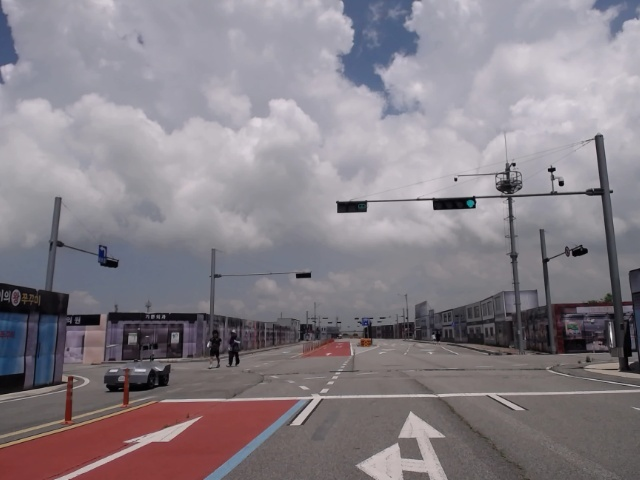straight_green_4: (432, 197, 476, 209)
